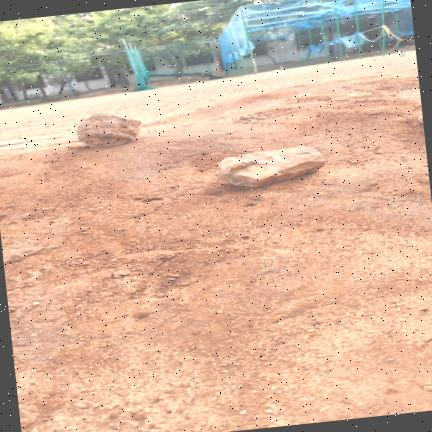Rocks: (217, 147, 324, 187), (76, 113, 140, 147), (112, 270, 130, 278), (132, 312, 149, 319), (422, 386, 431, 391), (417, 116, 422, 123)
